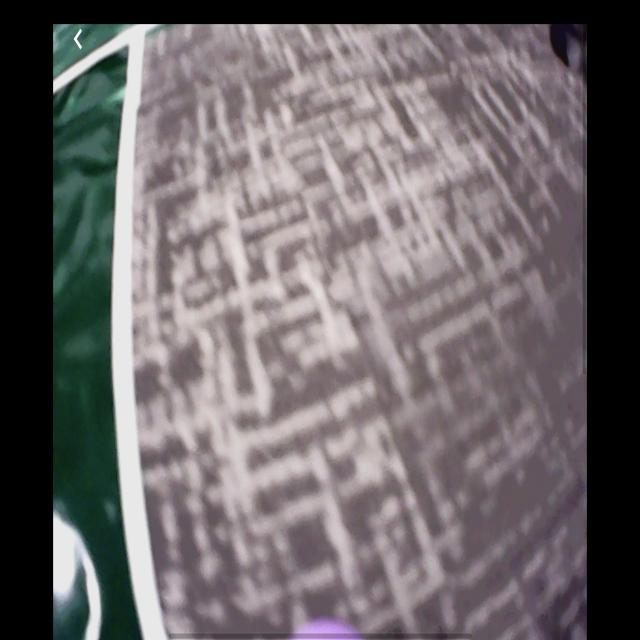ball: (290, 618, 363, 640)
